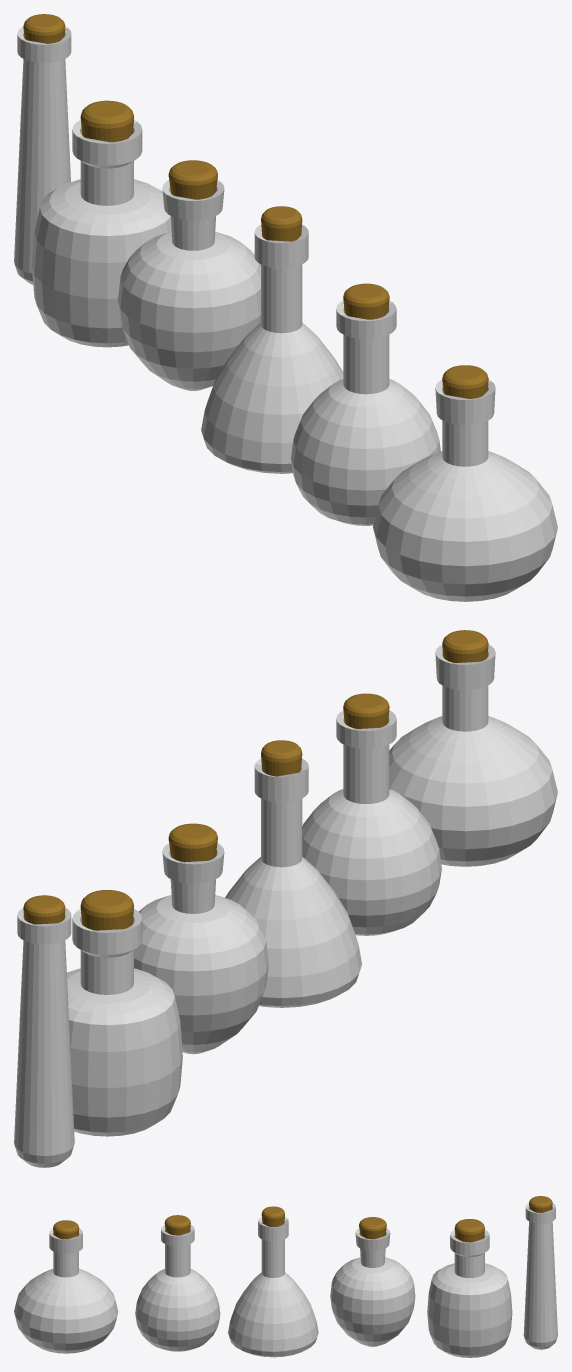
File: BPW_Potions.fbx
The picture shows the model from 3 angles, top to bottom: view 1: azimuth 30°, elevation 25°; view 2: azimuth 150°, elevation 25°; view 3: azimuth 270°, elevation 25°; orthographic projection. The views are drawn at different scales.
Visible parts, largest first — view 1: Sphere.003, Sphere.002, Sphere.004, Sphere, Sphere.001, Sphere.005, Cylinder.004, Cylinder.003, Cylinder, Cylinder.001, Cylinder.002, Cylinder.005; view 2: Sphere.003, Sphere.004, Sphere, Sphere.001, Sphere.002, Sphere.005, Cylinder.004, Cylinder.003, Cylinder, Cylinder.001, Cylinder.002, Cylinder.005; view 3: Sphere.003, Sphere.004, Sphere.001, Sphere.002, Sphere, Sphere.005, Cylinder.004, Cylinder.003, Cylinder, Cylinder.001, Cylinder.002, Cylinder.005.
Boxes of the visible parts, <box> form: Sphere.003: <box>373,380,557,601</box>; Sphere.002: <box>118,180,260,390</box>; Sphere.004: <box>32,120,171,347</box>; Sphere: <box>291,300,440,525</box>; Sphere.001: <box>201,224,343,473</box>; Sphere.005: <box>14,26,71,284</box>; Cylinder.004: <box>80,100,134,142</box>; Cylinder.003: <box>168,160,217,199</box>; Cylinder: <box>343,283,389,319</box>; Cylinder.001: <box>442,365,488,398</box>; Cylinder.002: <box>261,206,302,241</box>; Cylinder.005: <box>23,14,65,43</box>; Sphere.003: <box>389,644,557,866</box>; Sphere.004: <box>67,909,182,1136</box>; Sphere: <box>302,710,441,935</box>; Sphere.001: <box>225,758,361,1007</box>; Sphere.002: <box>134,843,268,1054</box>; Sphere.005: <box>14,908,74,1167</box>; Cylinder.004: <box>80,890,133,930</box>; Cylinder.003: <box>168,823,217,862</box>; Cylinder: <box>343,693,389,728</box>; Cylinder.001: <box>442,630,488,662</box>; Cylinder.002: <box>261,740,302,776</box>; Cylinder.005: <box>23,895,65,924</box>; Sphere.003: <box>14,1228,118,1353</box>; Sphere.004: <box>427,1230,512,1357</box>; Sphere.001: <box>228,1217,318,1357</box>; Sphere.002: <box>330,1228,415,1346</box>; Sphere: <box>135,1224,220,1351</box>; Sphere.005: <box>523,1203,557,1349</box>; Cylinder.004: <box>454,1219,484,1242</box>; Cylinder.003: <box>359,1217,386,1239</box>; Cylinder: <box>164,1215,190,1235</box>; Cylinder.001: <box>53,1220,79,1239</box>; Cylinder.002: <box>261,1206,284,1226</box>; Cylinder.005: <box>529,1196,552,1212</box>.
Size of the model in its own units: 245 by 379 by 1277.
